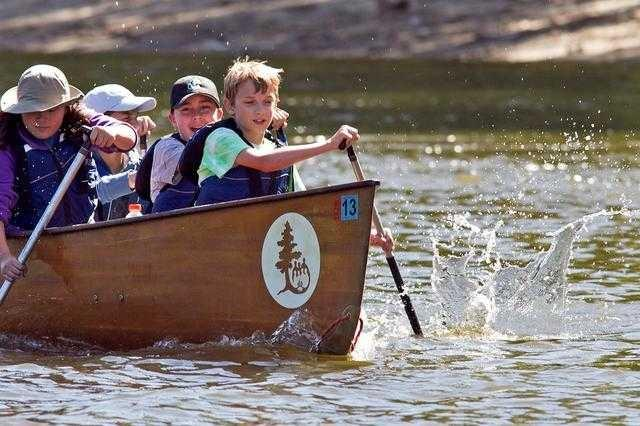kayak: (1, 179, 386, 355)
